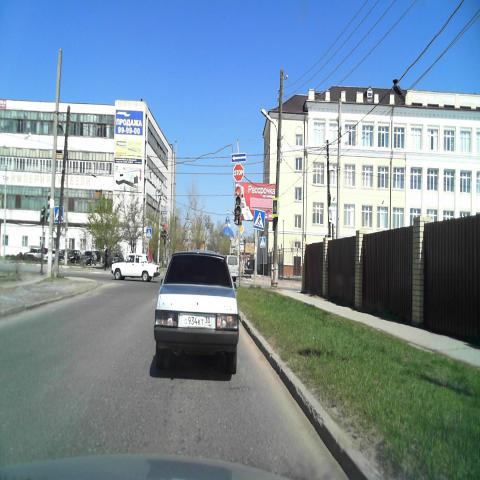5_7_2: (231, 152, 246, 163)
